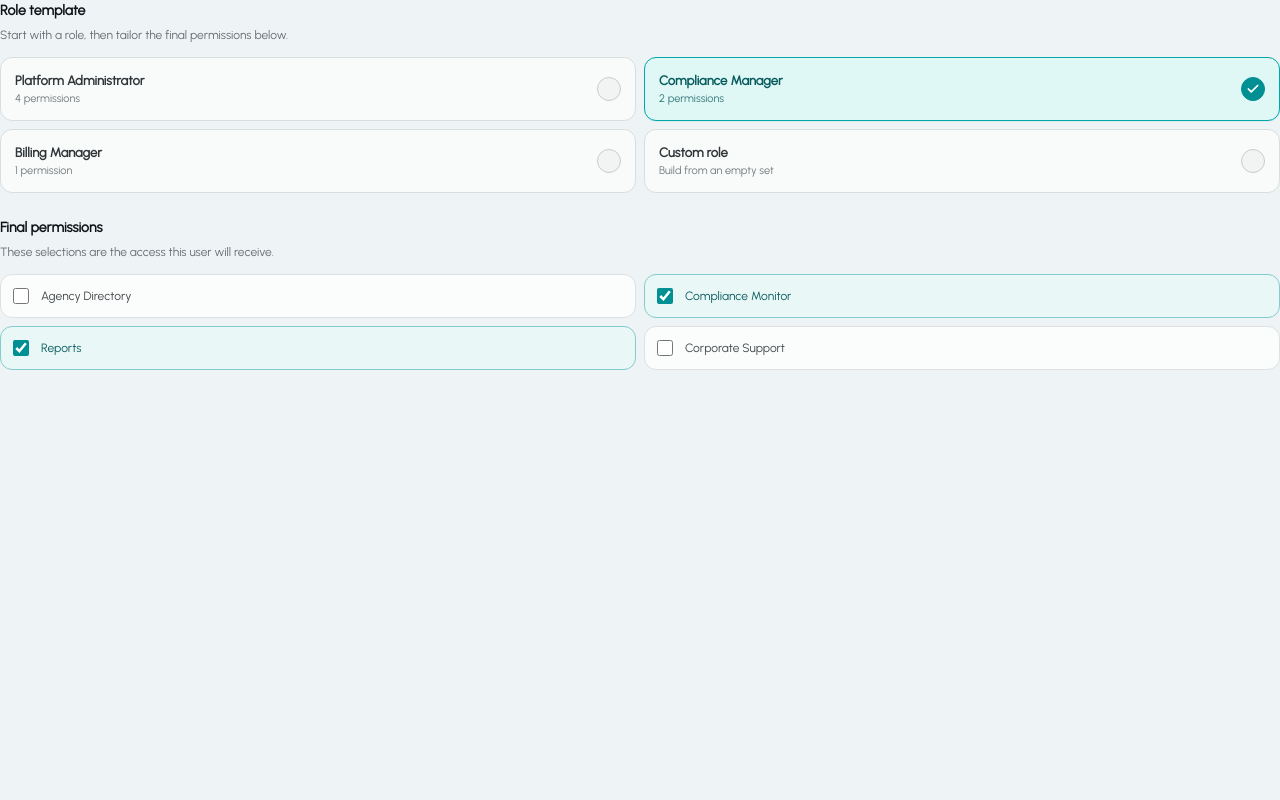
it: RolePermissionsFields › does not change roles until edited permissions are confirmed
Click the checkbox labelled "Corporate Support".
click(665, 348)  # box [657,340,673,356]
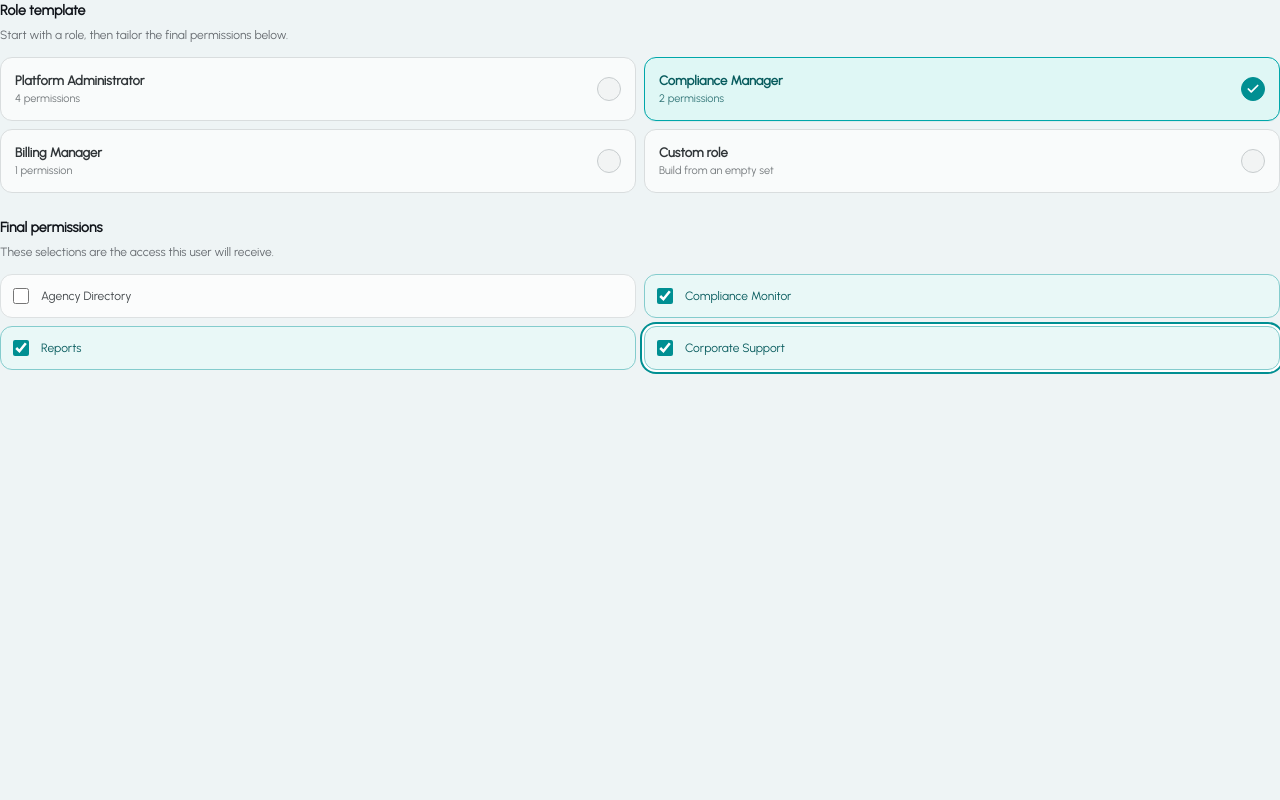
Click the button "Billing Manager 1 permission".
click(58, 152)  # box [0,129,636,193]
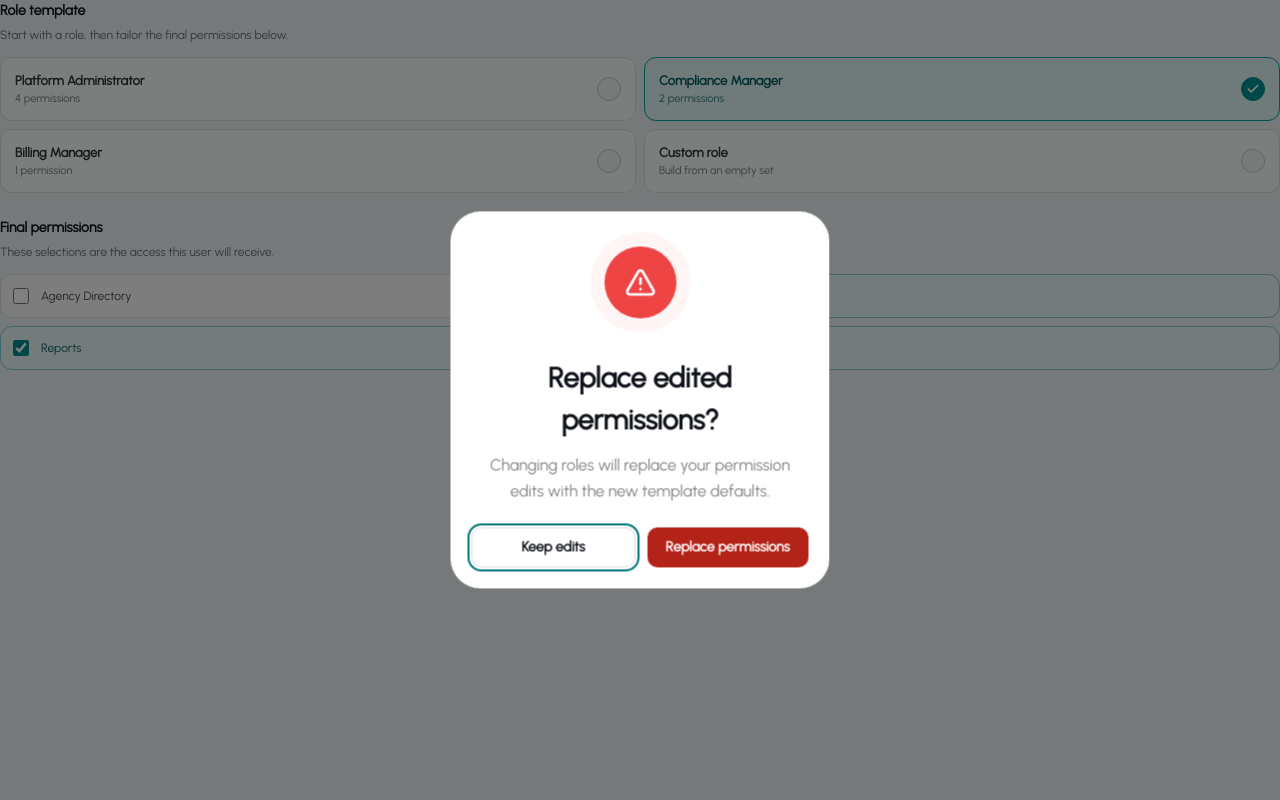
Expected: the heading "Replace edited permissions?" is shown, [548,360,739,436]
Click the button "Keep edits".
click(553, 548)  # box [472,528,635,568]
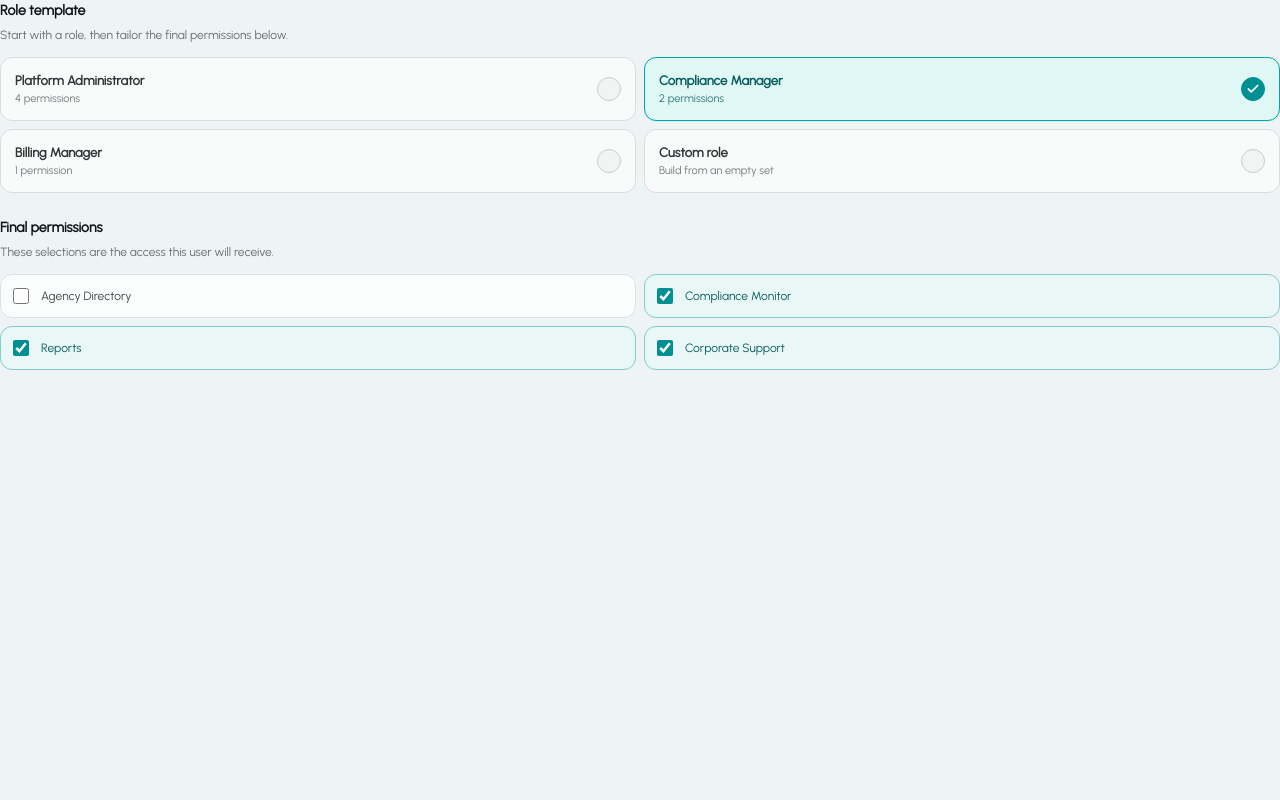
Expected: the checkbox labelled "Corporate Support" is checked, [657,340,673,356]
Click the button "Billing Manager 1 permission".
click(58, 152)  # box [0,129,636,193]
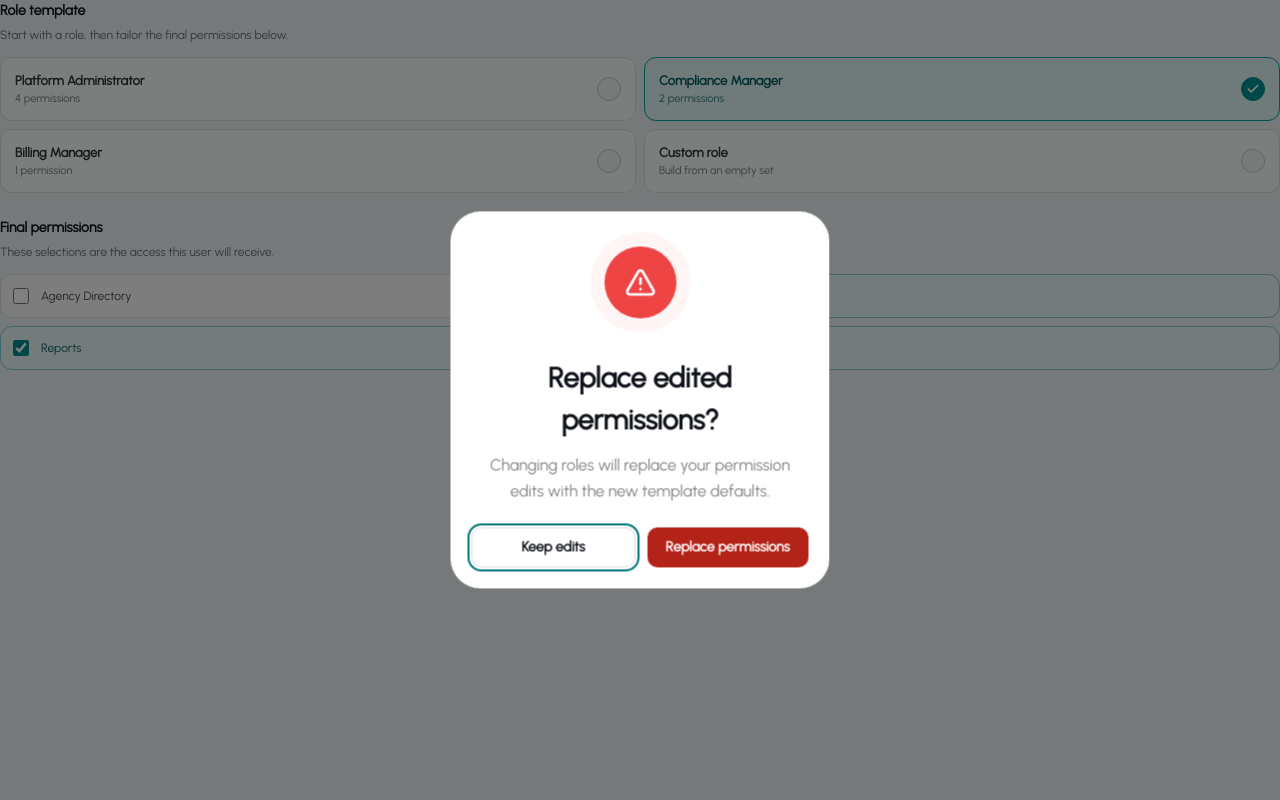
Click the button "Replace permissions".
click(728, 548)  # box [647,528,808,568]
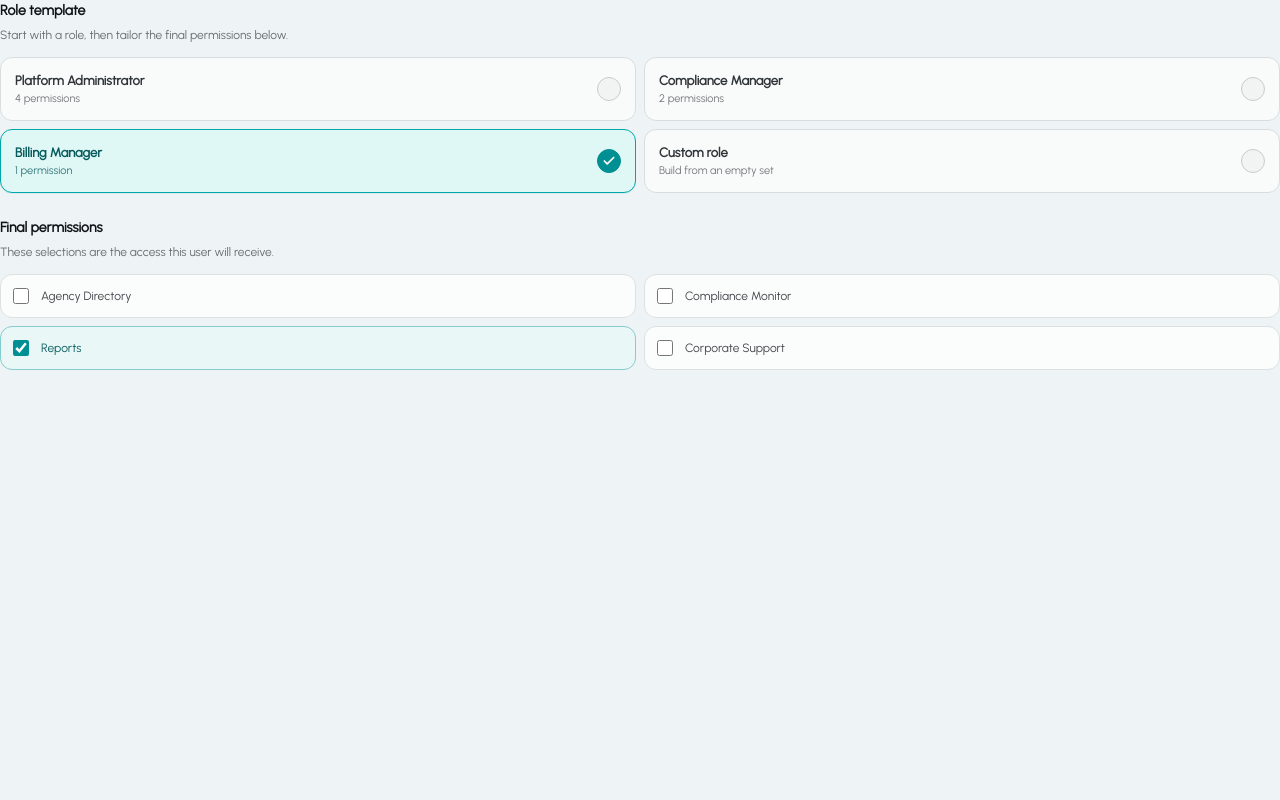
Expected: the checkbox labelled "Reports" is checked, [13,340,29,356]
Expected: the checkbox labelled "Corporate Support" is not checked, [657,340,673,356]
Expected: the checkbox labelled "Compliance Monitor" is not checked, [657,288,673,304]
